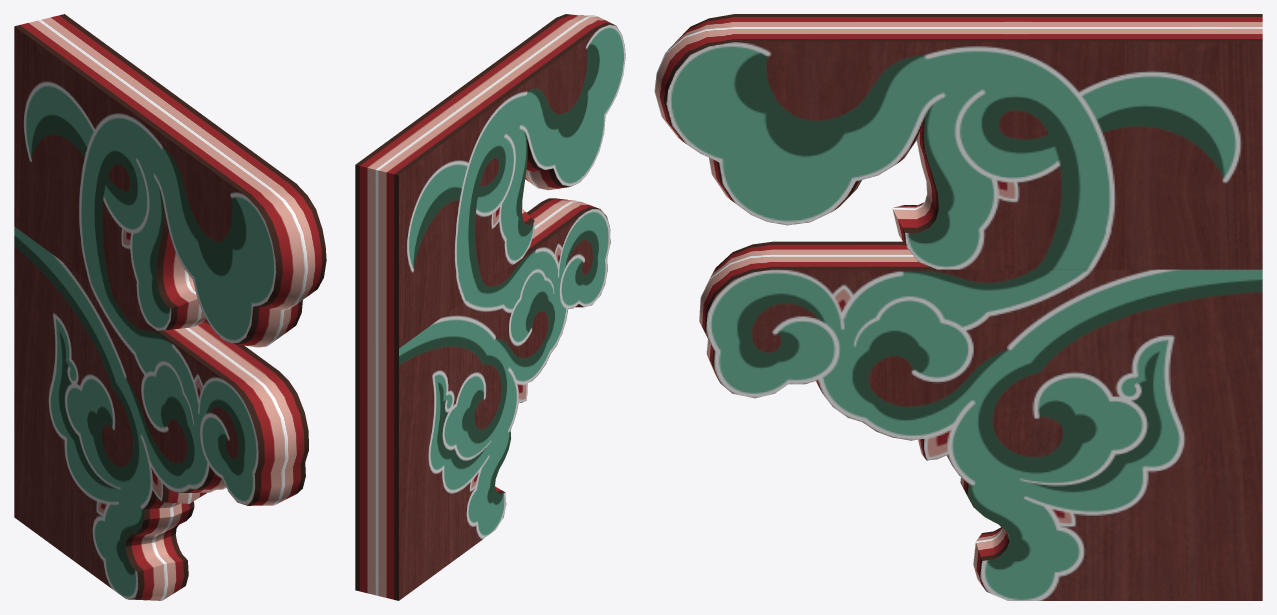
Rendered from SM_Gongpo04S.fbx.
The picture shows the model from 3 angles, left to right: view 1: azimuth 30°, elevation 25°; view 2: azimuth 150°, elevation 25°; view 3: azimuth 270°, elevation 25°; orthographic projection. The views are drawn at different scales.
Visible parts, largest first — view 1: SM_Gongpo04S; view 2: SM_Gongpo04S; view 3: SM_Gongpo04S.
Part boxes in pixels (<box>): SM_Gongpo04S: <box>14,14,326,600</box>; SM_Gongpo04S: <box>355,14,625,600</box>; SM_Gongpo04S: <box>654,14,1262,600</box>.
Bounding box in the file's own units: 6.75 × 62.04 × 62.94.
1 material, 1 textured.
